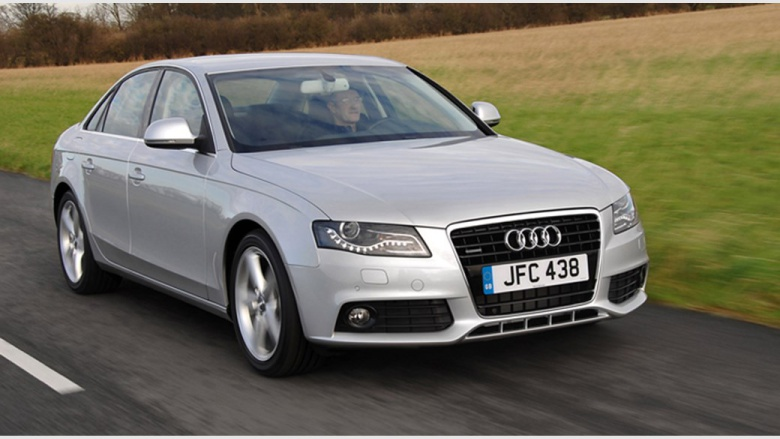audi: (496, 218, 572, 257)
